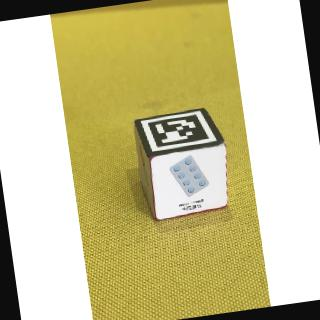Tablet: (146, 146, 234, 222)
